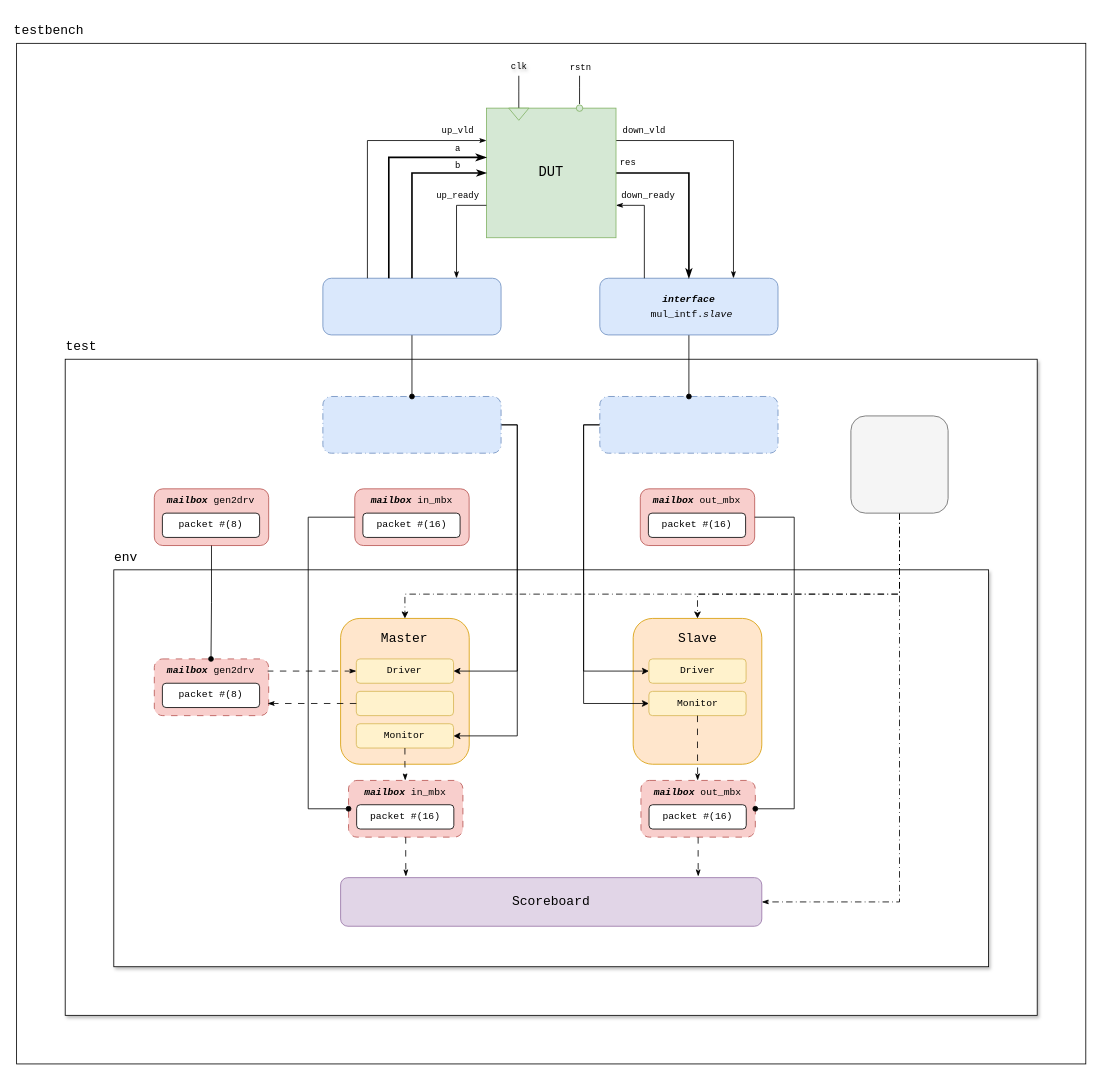
Image size: 1100x1078. Some labels were removed from this diagram. The centre of each missing label's shape, as x and y in pixels:
"Configs" belongs at pixel 899 464.
"Generator" belongs at pixel 405 703.
"interface mul_intf. master" belongs at pixel 411 306.
"virtual interface mul_intf. master" belongs at pixel 411 424.
"virtual interface mul_intf. slave" belongs at pixel 688 424.
